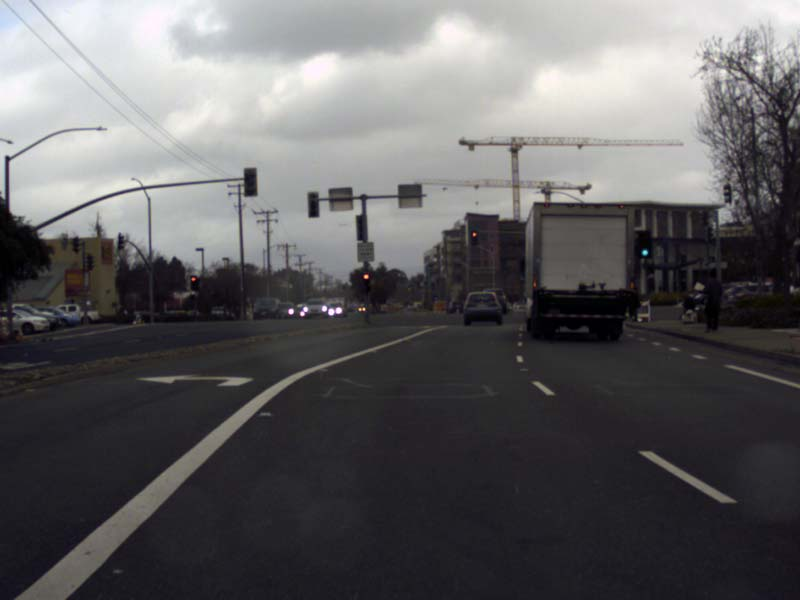Green: (638, 230, 650, 257)
Red: (362, 272, 370, 291), (190, 275, 198, 290), (471, 230, 477, 245)
